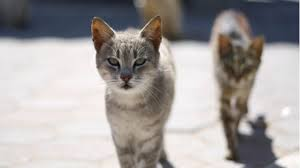cat: (85, 10, 185, 168)
